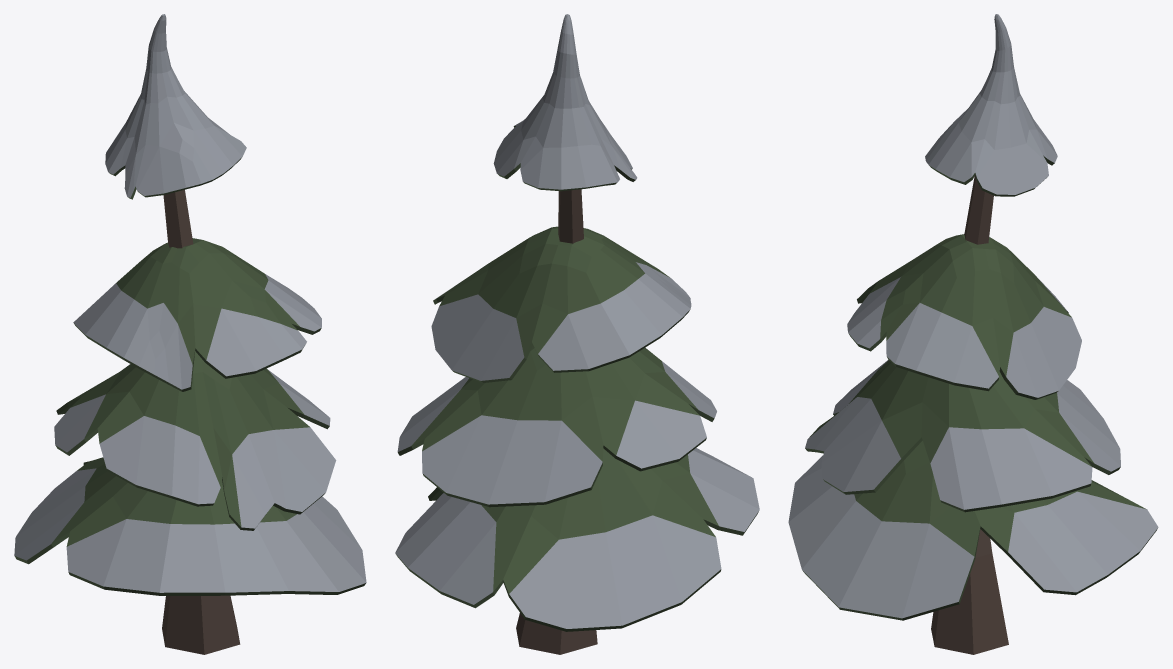
The model's file is sn_pine_2.glb.
The picture shows the model from 3 angles, left to right: view 1: azimuth 30°, elevation 25°; view 2: azimuth 150°, elevation 25°; view 3: azimuth 270°, elevation 25°; orthographic projection. The views are drawn at different scales.
Visible parts, largest first — view 1: PineTree_Snow_2; view 2: PineTree_Snow_2; view 3: PineTree_Snow_2.
Boxes of the visible parts, left/top/right/bottom form: PineTree_Snow_2: left=14, top=14, right=366, bottom=654; PineTree_Snow_2: left=395, top=14, right=759, bottom=654; PineTree_Snow_2: left=788, top=14, right=1158, bottom=654.
Bounding box in the file's own units: 1.8 × 3.56 × 1.96.
